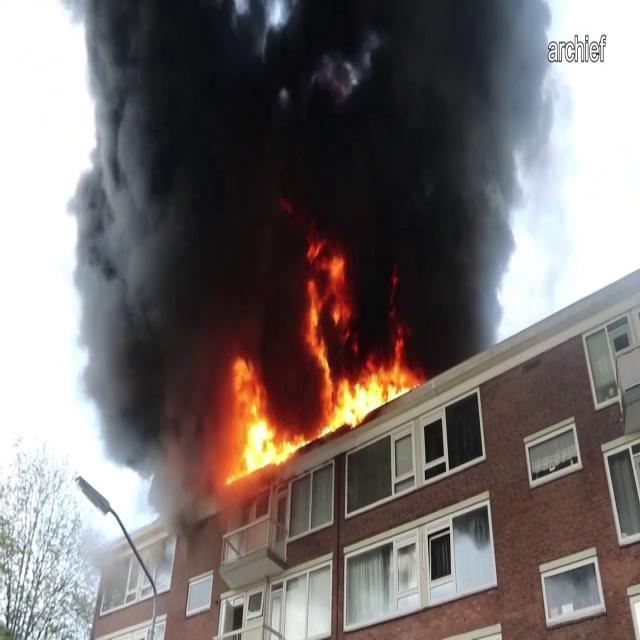Fire: (217, 357, 299, 487), (318, 338, 420, 434)
Smoke: (51, 0, 544, 348)
